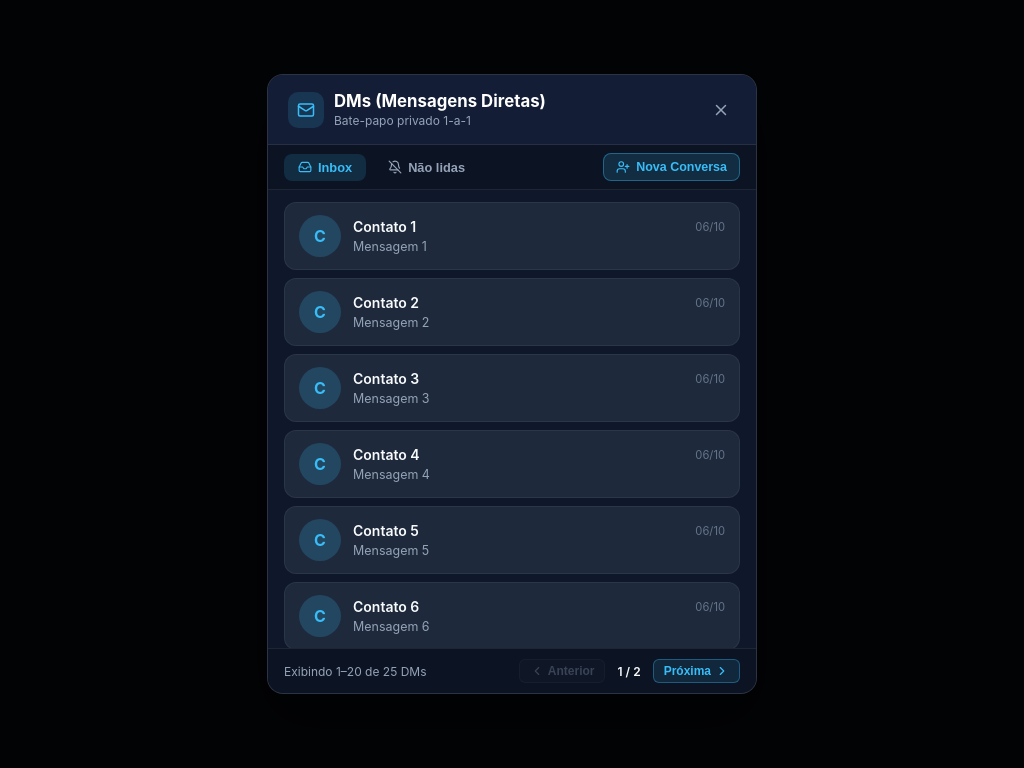
Test: ChatDmModal and ChatDmConversationView Components › paginates active conversations to 20 per page and allows page navigation
Check: the text "Contato 1" is shown, box top-left (353, 218), bottom-right (416, 235)
Check: the text "Contato 21" is not shown
Note: Clica para ir para a página 2
Click the button with test id "dm-pagination-next-btn". click: (696, 671)
box: top-left (653, 659), bottom-right (740, 683)
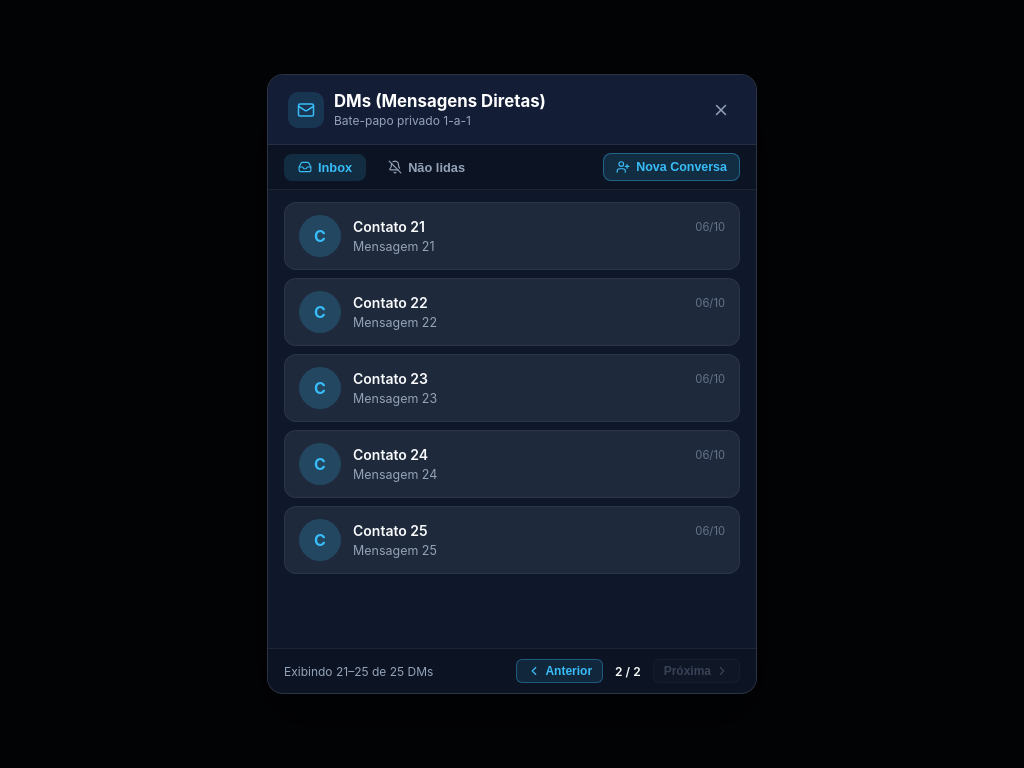
Check: the text "Contato 1" is gone
Check: the text "Contato 21" is shown, box top-left (353, 218), bottom-right (425, 235)
Check: the text "Contato 25" is shown, box top-left (353, 522), bottom-right (428, 539)
Note: Clica no botão anterior para retornar à página 1
Click the button with test id "dm-pagination-prev-btn". click: (560, 671)
box: top-left (516, 659), bottom-right (603, 683)
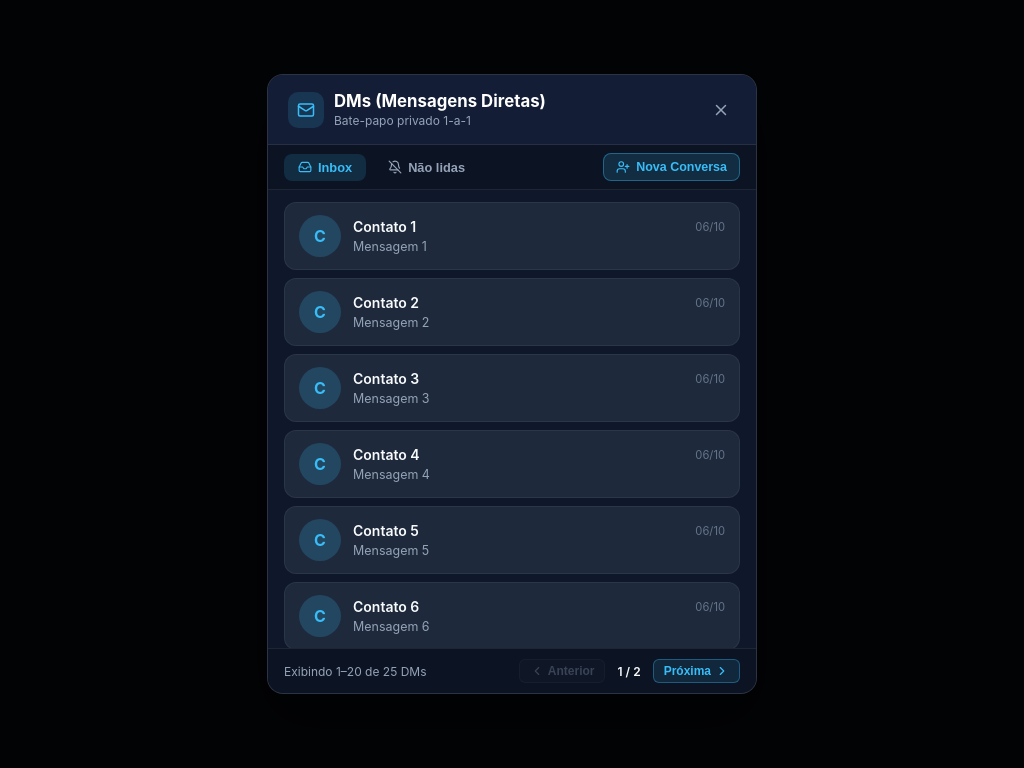
Check: the text "Contato 1" is shown, box top-left (353, 218), bottom-right (416, 235)
Check: the text "Contato 21" is gone
Check: the text with test id "dm-pagination-info" reads "Exibindo 1–20 de 25 DMs", box top-left (284, 664), bottom-right (426, 678)
